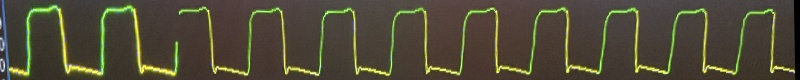normal_pressure: (0, 1, 793, 78)
